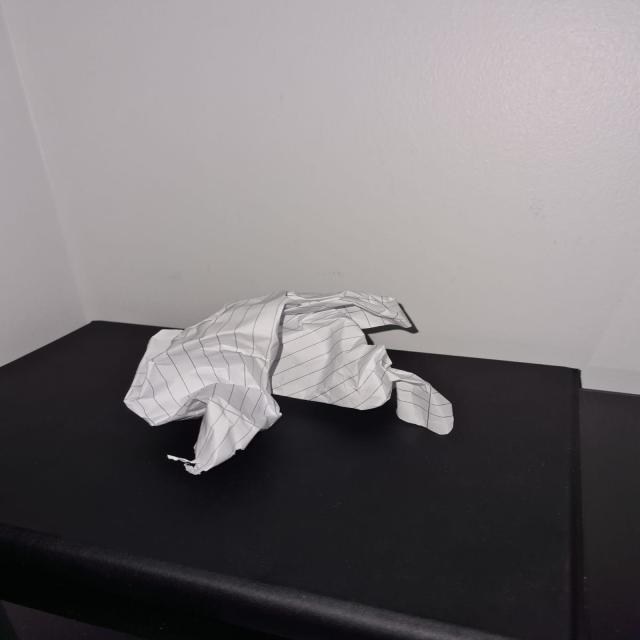Paper: (123, 298, 448, 474)
